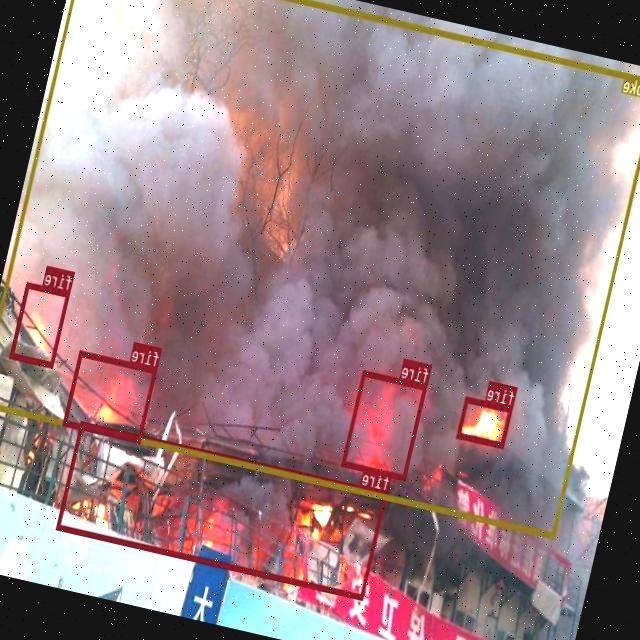fire: (56, 420, 388, 600), (342, 369, 428, 479), (64, 350, 158, 443), (10, 280, 71, 366), (457, 396, 513, 448)
smoke: (0, 0, 640, 538)
